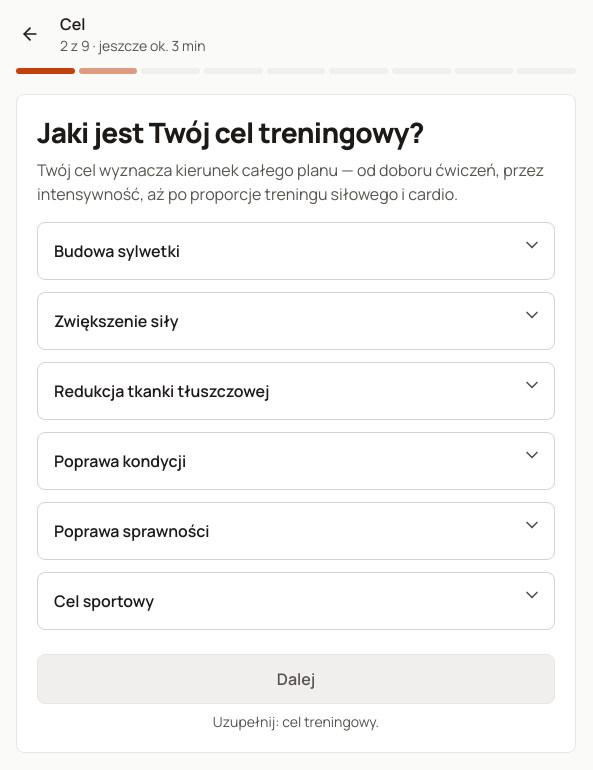
Scenario: steps › conditional screen: sport questions only for the sport goal, with the reason
The image size is (593, 770).
Click the radio button labelled "Cel sportowy" at x=104, y=601, box [54,590,154,612]
Wait 350 ms
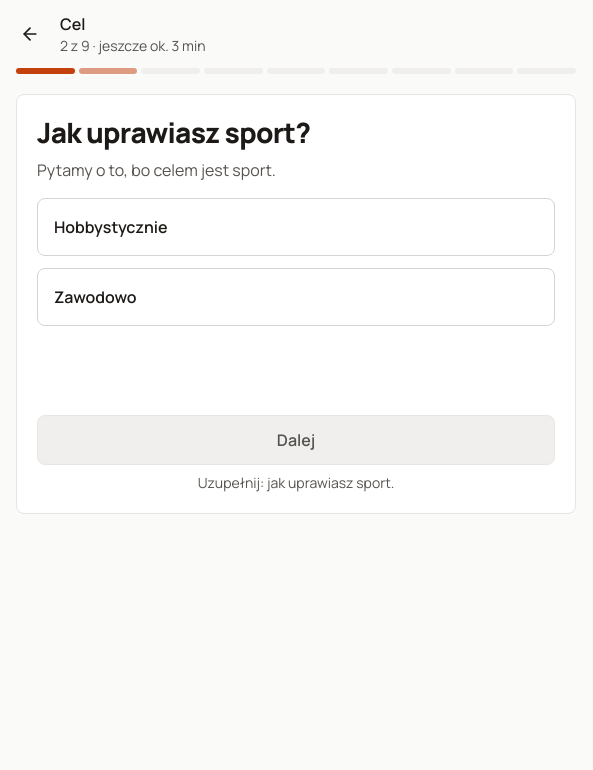
Expected: the heading with test id "question" reads "Jak uprawiasz sport?", [37,113,310,151]
Expected: the text "Pytamy o to, bo celem jest sport." is shown, [37,159,276,181]
